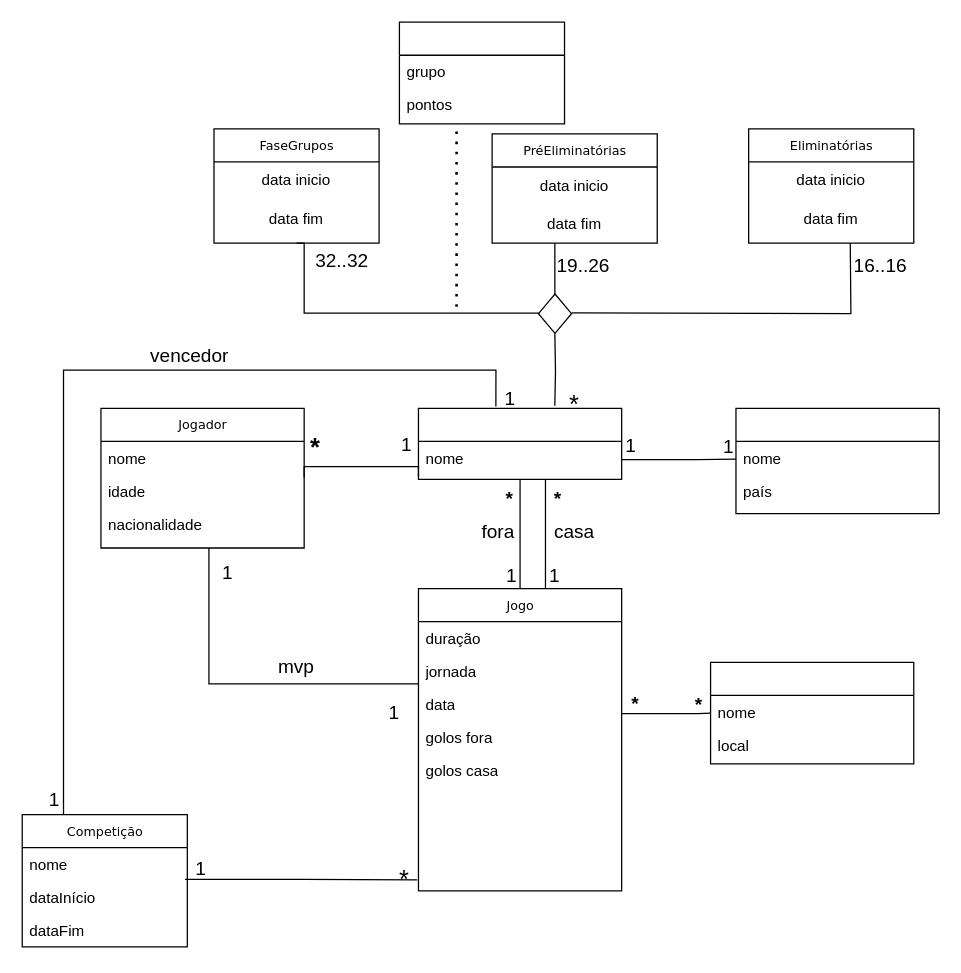
Some shapes in this 961 by 973 pixel diagram are drawn without their labels. The shapes that lost their labels are listed below. From the top down, each one's box as (x1, y1, x2, y2) in pixels, then its label:
(417, 407, 622, 479): Equipa
(735, 407, 939, 514): Clube
(709, 661, 914, 764): Estádio
